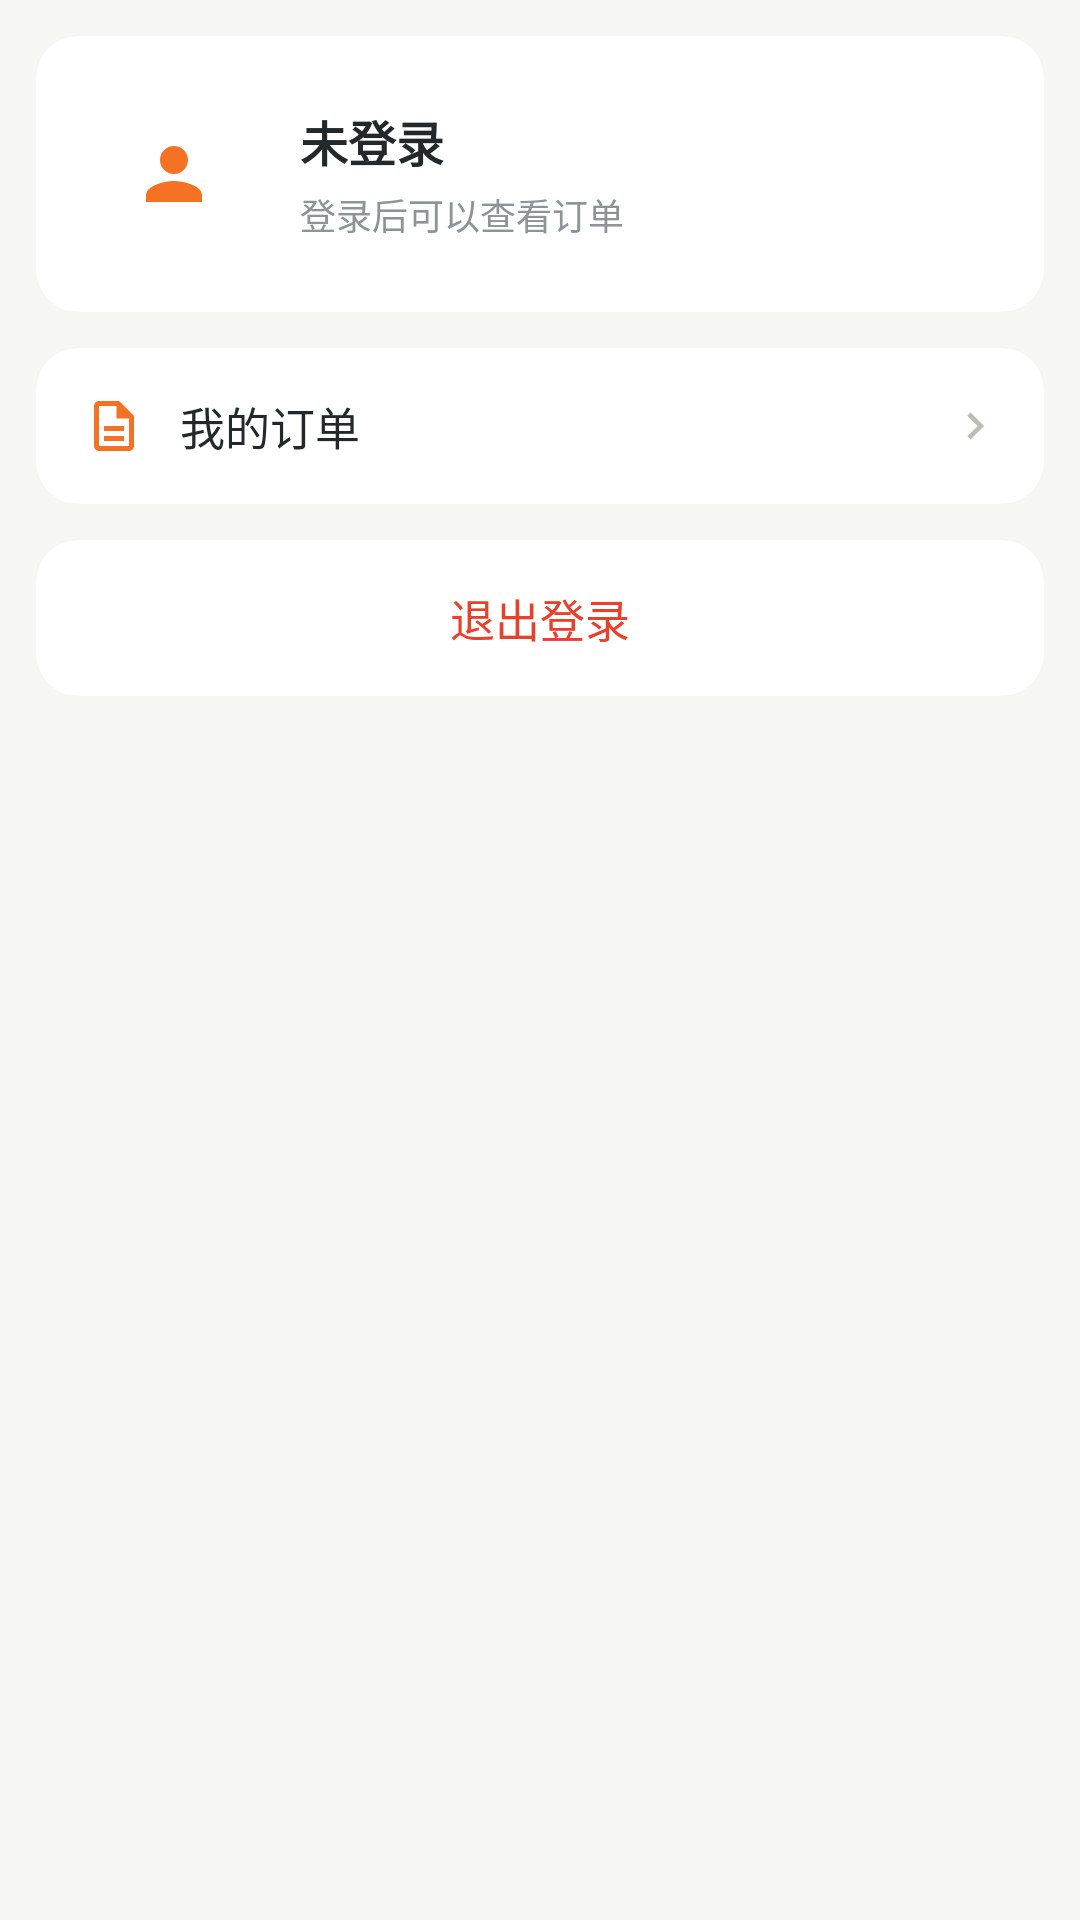

Icons on this 1080*1920 Android screen, each with the point to tap as (x=x, y=y):
头像: (x=174, y=174)
进入: (x=975, y=425)
